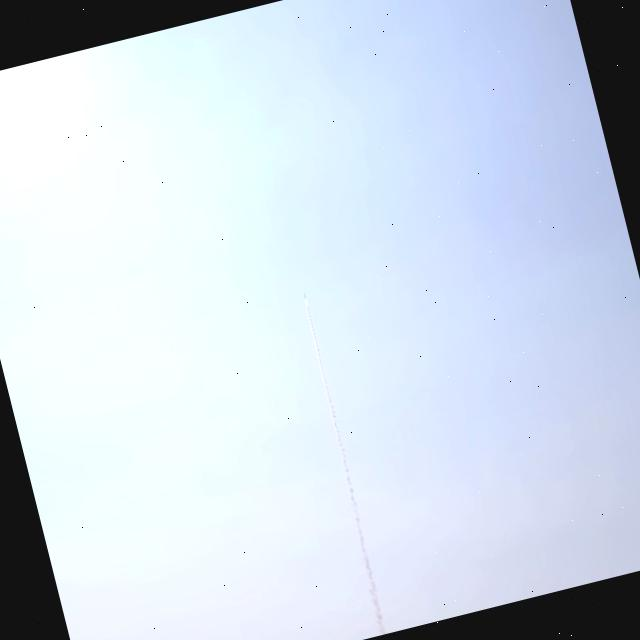smoke_trail_with_rocket: (303, 294, 387, 635)
